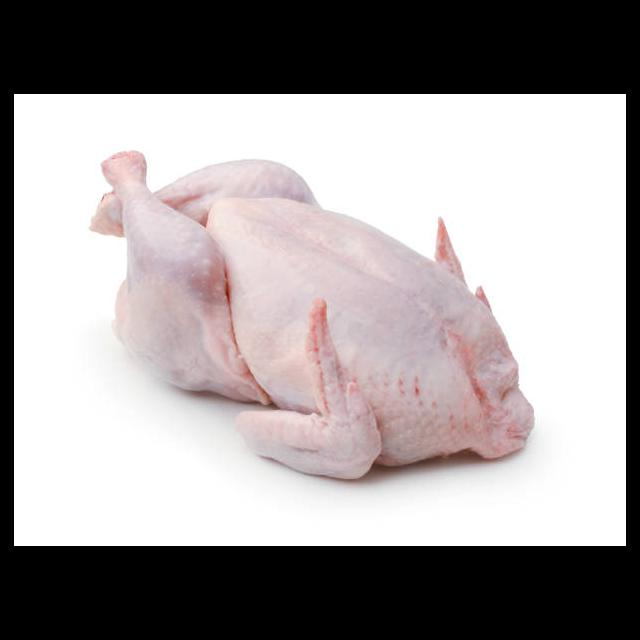chicken: (91, 149, 536, 483)
